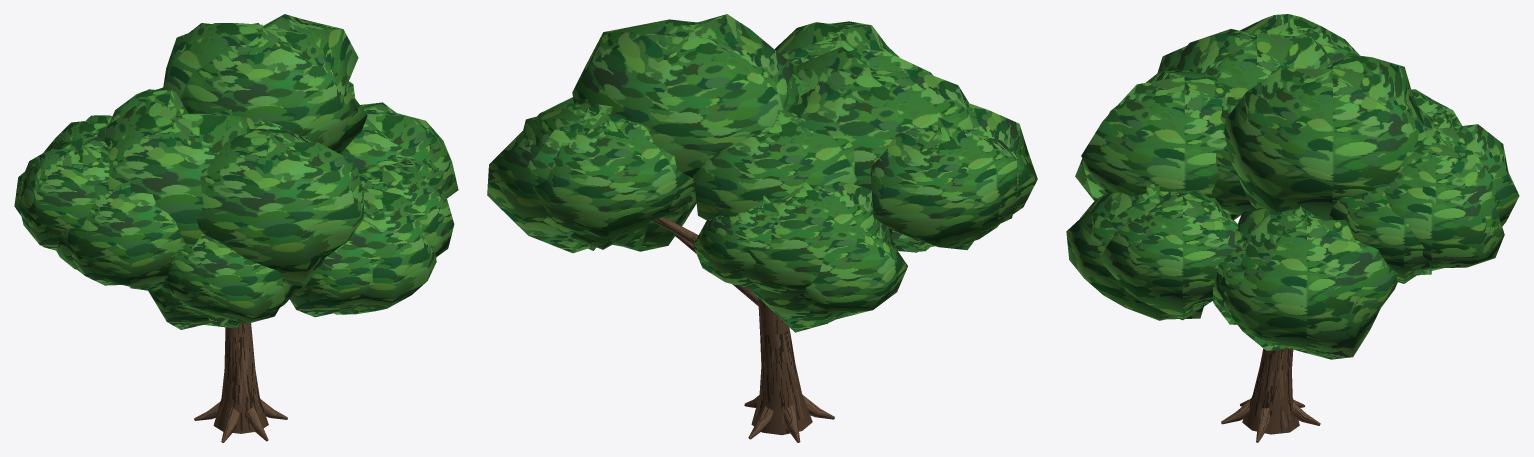
The model's file is tree_english_oak.glb.
The picture shows the model from 3 angles, left to right: view 1: azimuth 30°, elevation 25°; view 2: azimuth 150°, elevation 25°; view 3: azimuth 270°, elevation 25°; orthographic projection. The views are drawn at different scales.
Visible parts, largest first — view 1: canopy, trunk; view 2: canopy, trunk; view 3: canopy, trunk.
Part boxes in pixels (x1,y1,x2,y2): canopy: (14,14,458,329); trunk: (194,322,287,442); canopy: (487,14,1037,332); trunk: (652,217,834,442); canopy: (1066,14,1519,359); trunk: (1221,348,1320,442).
Bounding box in the file's own units: 11.43 × 9.35 × 10.03.
Materials: 2 (2 with a texture image).
